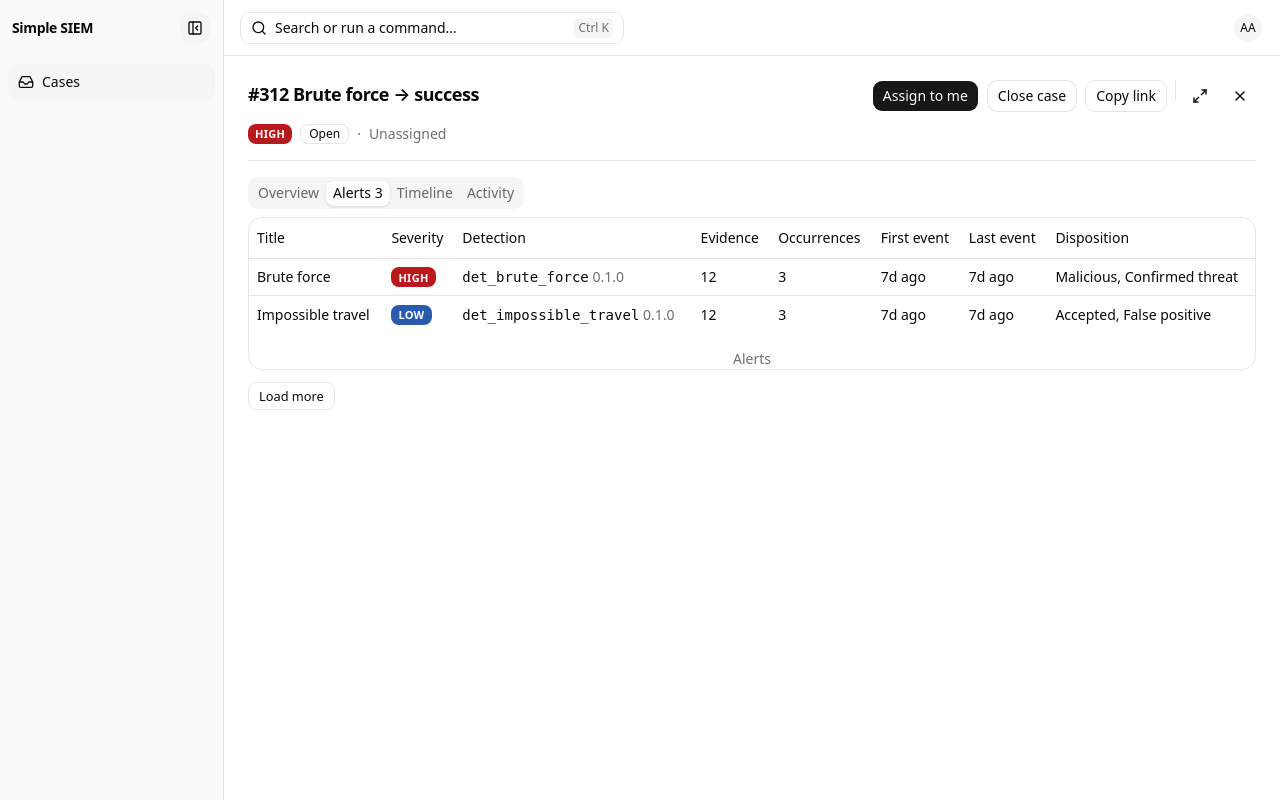
Test: case alerts › shows the alerts table and loads the next page
The width and height of the screenshot is (1280, 800).
Expected: the icon "HIGH" next to "det_brute_force" is shown, [398,270,429,284]
Expected: the text "det_brute_force" is shown, [462,269,589,285]
Click the button "Load more": (291, 396) [248,382,335,410]
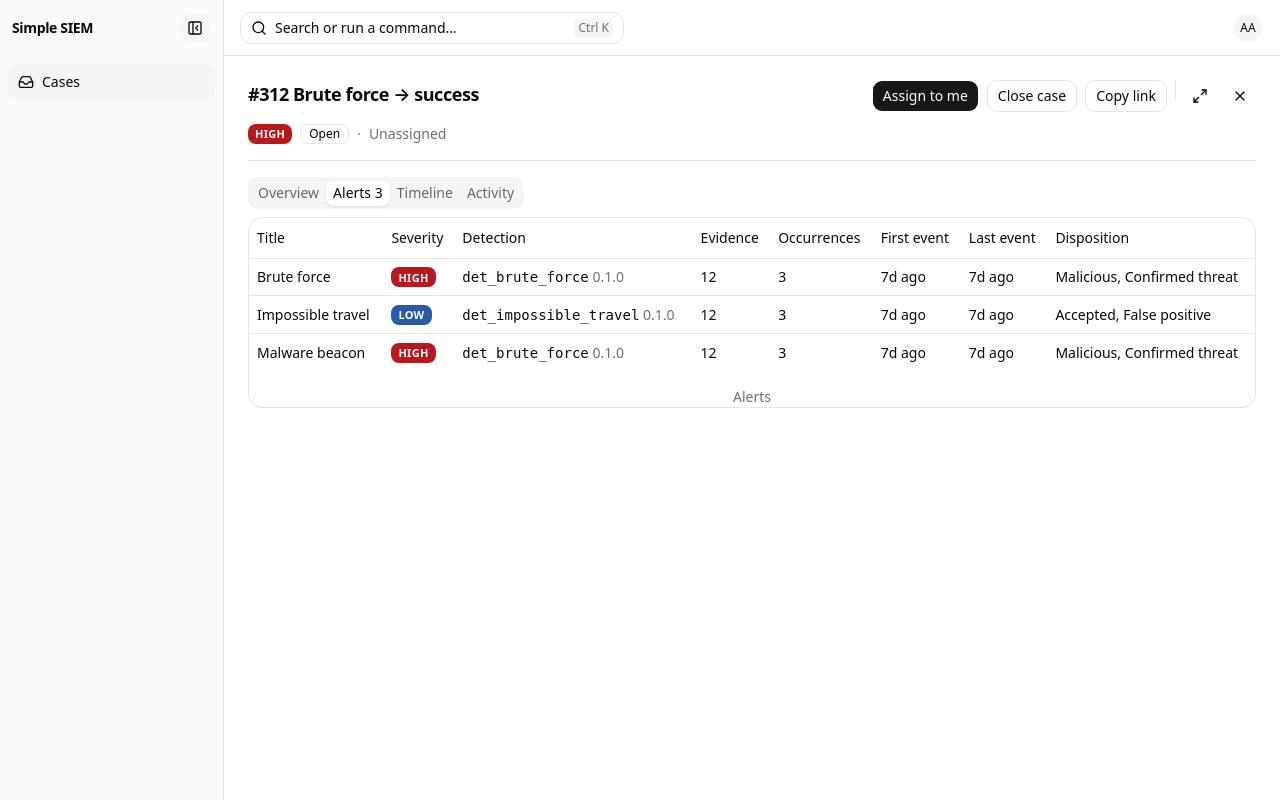
Expected: the text "Malware beacon" is shown, [249,334,383,371]
Expected: the button "Load more" is gone
